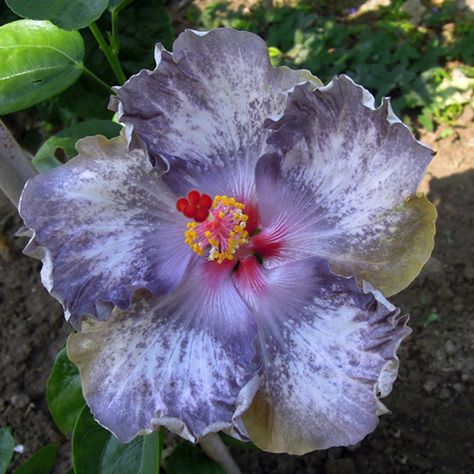Hibiscus: (19, 17, 421, 441)
